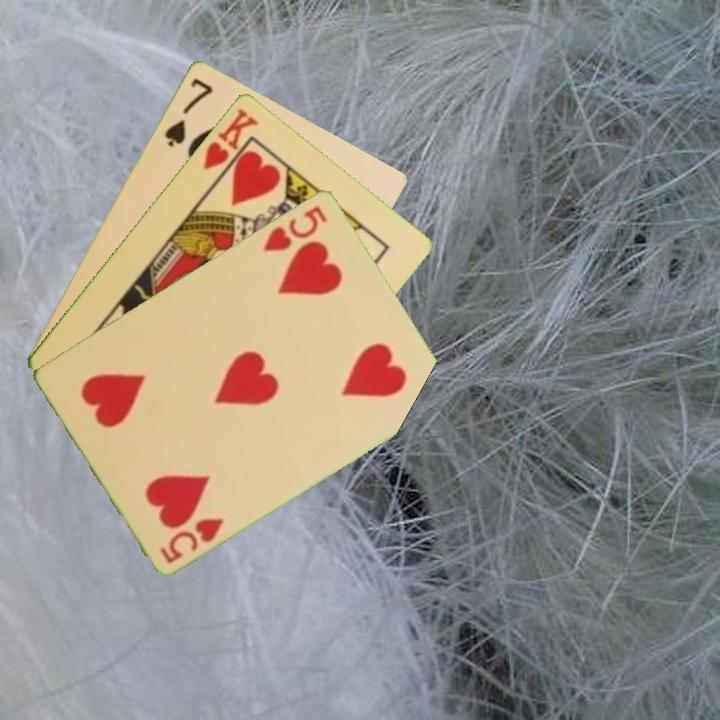5h: (259, 201, 331, 254), (156, 513, 227, 566)
7s: (160, 74, 216, 150)
Kh: (199, 104, 262, 184)
